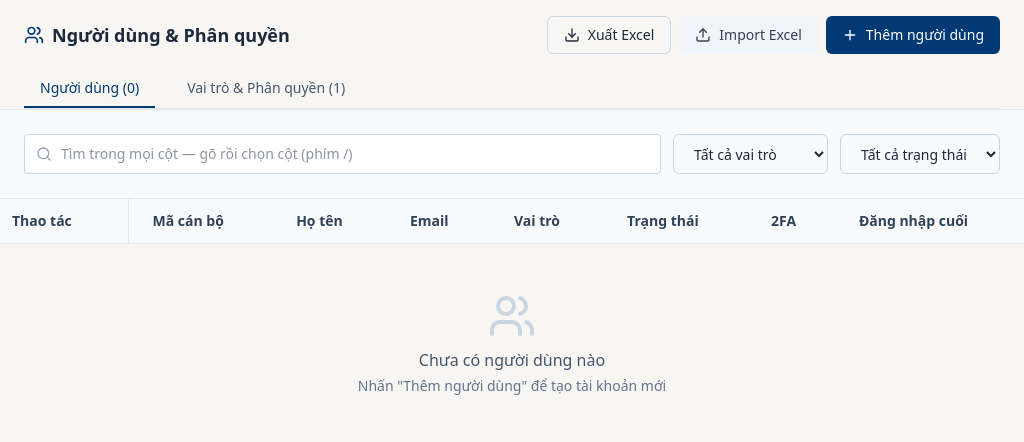
Test: Ma trận phân quyền vai trò › lưới là DANH MỤC thật: nhóm "Luật sư" và thao tác "Khôi phục" có mặt, ô đang giữ được tích
Click the tab "Vai trò & Phân quyền (1)": (266, 89) [171,70,361,108]
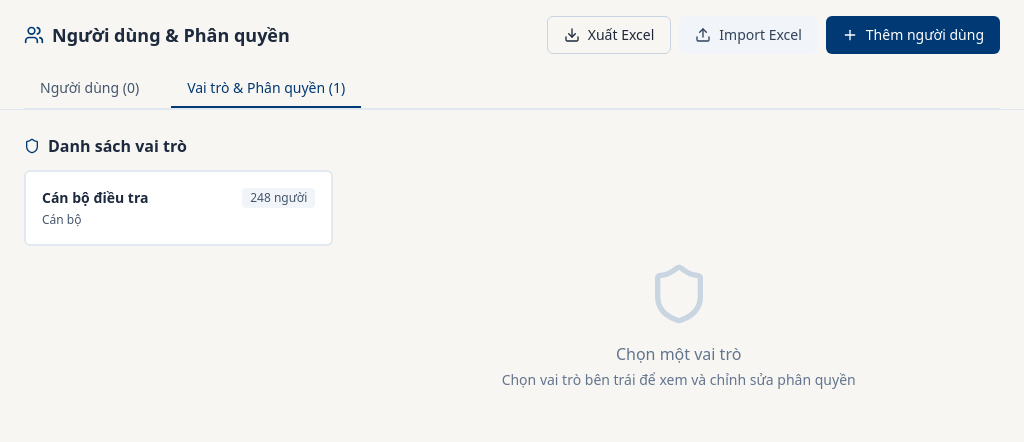
Click the button "Cán bộ điều tra 248 người Cán bộ": (95, 198) [24,170,333,246]
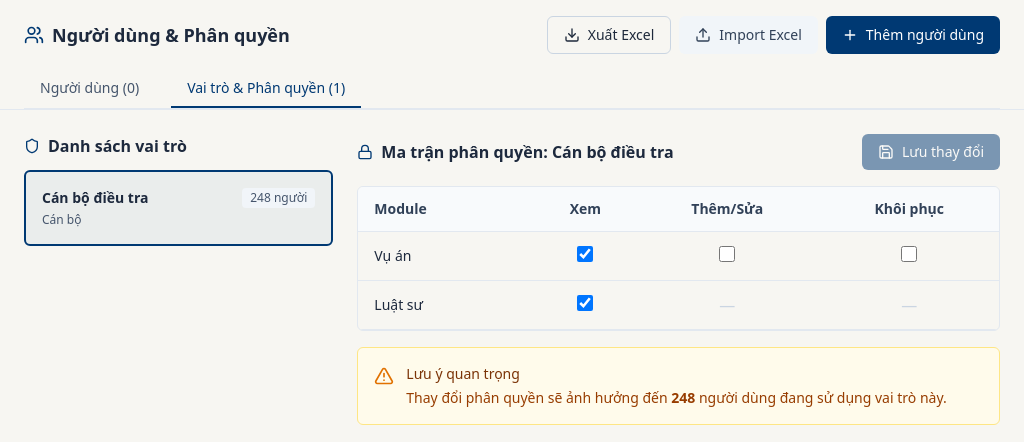
Now the checkbox named "Luật sư — Xem" is checked, box [577,295,593,311]
Now the checkbox named "Vụ án — Khôi phục" is not checked, box [901,246,917,262]
